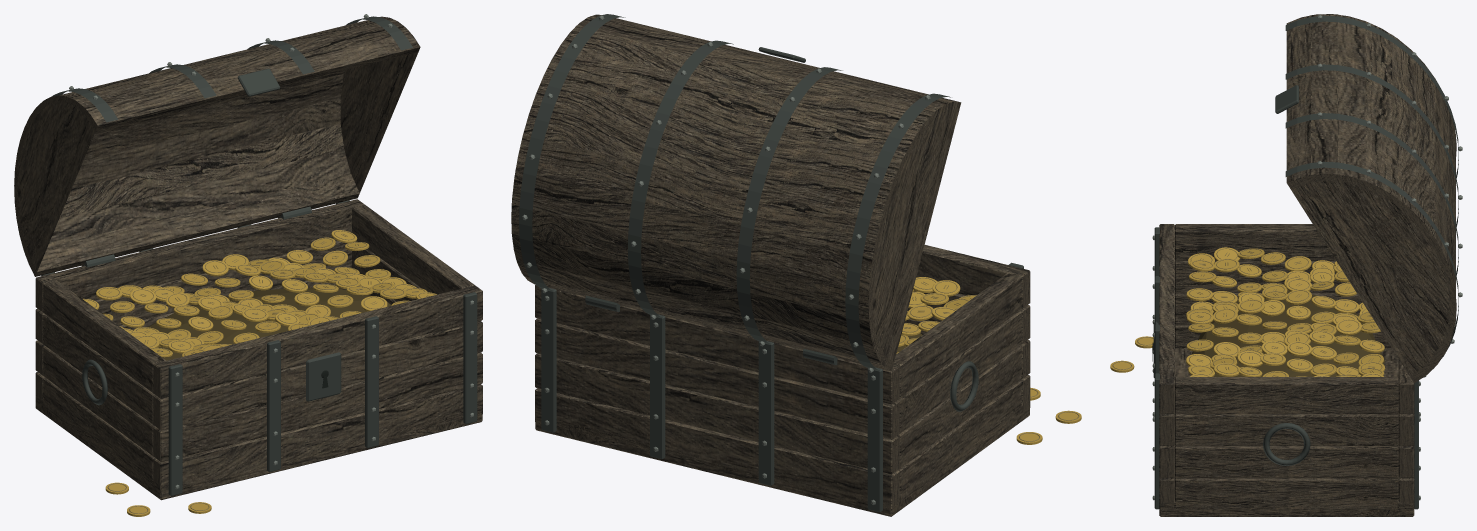
Rendered from MD-08-chest.glb.
3 views of the same model, side by side, from view 1: azimuth 30°, elevation 25°; view 2: azimuth 150°, elevation 25°; view 3: azimuth 270°, elevation 25° (orthographic). The views are drawn at different scales.
Visible parts, largest first — view 1: Chest_Horizontal_plank.014, Chest_Horizontal_plank.015, Chest_Horizontal_plank.008, Chest_Horizontal_plank.010, Chest_Lid_curved_stave.012, Chest_Lid_end.002, Chest_Lid_curved_stave.013, Chest_Horizontal_plank.012, Chest_Lid_curved_stave.014, Chest_Lid_curved_stave.015, Chest_Lid_curved_stave.023, Chest_Lid_curved_stave.016 (+21 smaller); view 2: Chest_Lid_curved_stave.017, Chest_Lid_curved_stave.018, Chest_Lid_curved_stave.016, Chest_Horizontal_plank.013, Chest_Horizontal_plank.011, Chest_Lid_curved_stave.019, Chest_Horizontal_plank.009, Chest_Lid_end.002, Chest_Horizontal_plank.015, Chest_Lid_curved_stave.015, Chest_Lid_curved_stave.020, Chest_Lid_curved_stave.014 (+16 smaller); view 3: Chest_Lid_end.003, Chest_End_plank.015, Chest_End_plank.009, Chest_End_plank.011, Chest_End_plank.013, Chest_End_plank.014, Chest_Lid_curved_stave.021, Chest_Lid_curved_stave.020, Chest_Lid_curved_stave.022, Chest_Lid_curved_stave.019, Chest_Gold_underfill.001, Chest_Lid_curved_stave.023 (+19 smaller).
Part boxes in pixels (x1,y1,x2,y2): Chest_Horizontal_plank.014: [153, 285, 482, 398]; Chest_Horizontal_plank.015: [35, 199, 364, 312]; Chest_Horizontal_plank.008: [153, 384, 482, 493]; Chest_Horizontal_plank.010: [153, 352, 482, 461]; Chest_Lid_curved_stave.012: [25, 173, 359, 276]; Chest_Lid_end.002: [14, 95, 97, 276]; Chest_Lid_curved_stave.013: [18, 149, 350, 254]; Chest_Horizontal_plank.012: [153, 321, 482, 430]; Chest_Lid_curved_stave.014: [14, 123, 343, 229]; Chest_Lid_curved_stave.015: [14, 98, 340, 202]; Chest_Lid_curved_stave.023: [84, 30, 420, 130]; Chest_Lid_curved_stave.016: [16, 74, 343, 175]; Chest_Lid_curved_stave.017: [515, 135, 882, 257]; Chest_Lid_curved_stave.018: [523, 101, 892, 222]; Chest_Lid_curved_stave.016: [511, 170, 876, 291]; Chest_Horizontal_plank.013: [535, 318, 899, 439]; Chest_Horizontal_plank.011: [535, 353, 899, 474]; Chest_Lid_curved_stave.019: [533, 70, 905, 190]; Chest_Horizontal_plank.009: [535, 388, 899, 509]; Chest_Lid_end.002: [868, 102, 960, 370]; Chest_Horizontal_plank.015: [535, 285, 899, 404]; Chest_Lid_curved_stave.015: [511, 204, 872, 321]; Chest_Lid_curved_stave.020: [546, 44, 918, 161]; Chest_Lid_curved_stave.014: [512, 234, 876, 345]; Chest_Lid_end.003: [1287, 174, 1456, 382]; Chest_End_plank.015: [1175, 377, 1398, 413]; Chest_End_plank.009: [1175, 477, 1398, 509]; Chest_End_plank.011: [1175, 445, 1398, 478]; Chest_End_plank.013: [1175, 413, 1398, 445]; Chest_End_plank.014: [1175, 224, 1335, 260]; Chest_Lid_curved_stave.021: [1338, 14, 1365, 187]; Chest_Lid_curved_stave.020: [1364, 21, 1392, 199]; Chest_Lid_curved_stave.022: [1311, 14, 1338, 181]; Chest_Lid_curved_stave.019: [1390, 35, 1416, 218]; Chest_Gold_underfill.001: [1191, 289, 1385, 376]; Chest_Lid_curved_stave.023: [1286, 15, 1313, 189].
Size of the model in its own units: 0.5225 by 0.4689 by 0.4283.
Materials: 7 (1 with a texture image).
